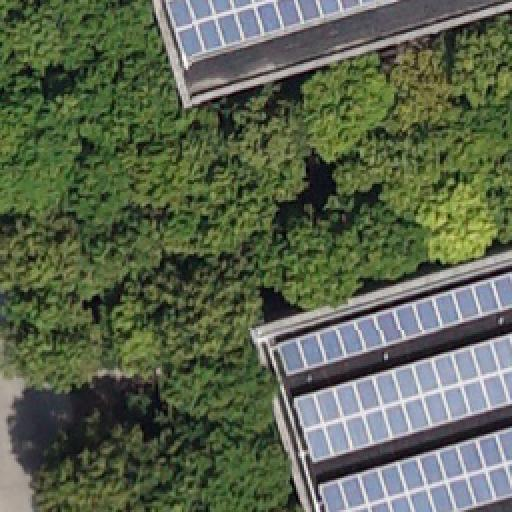solar-panel: (294, 331, 512, 461), (276, 269, 512, 379), (316, 424, 512, 512), (166, 0, 398, 64)
